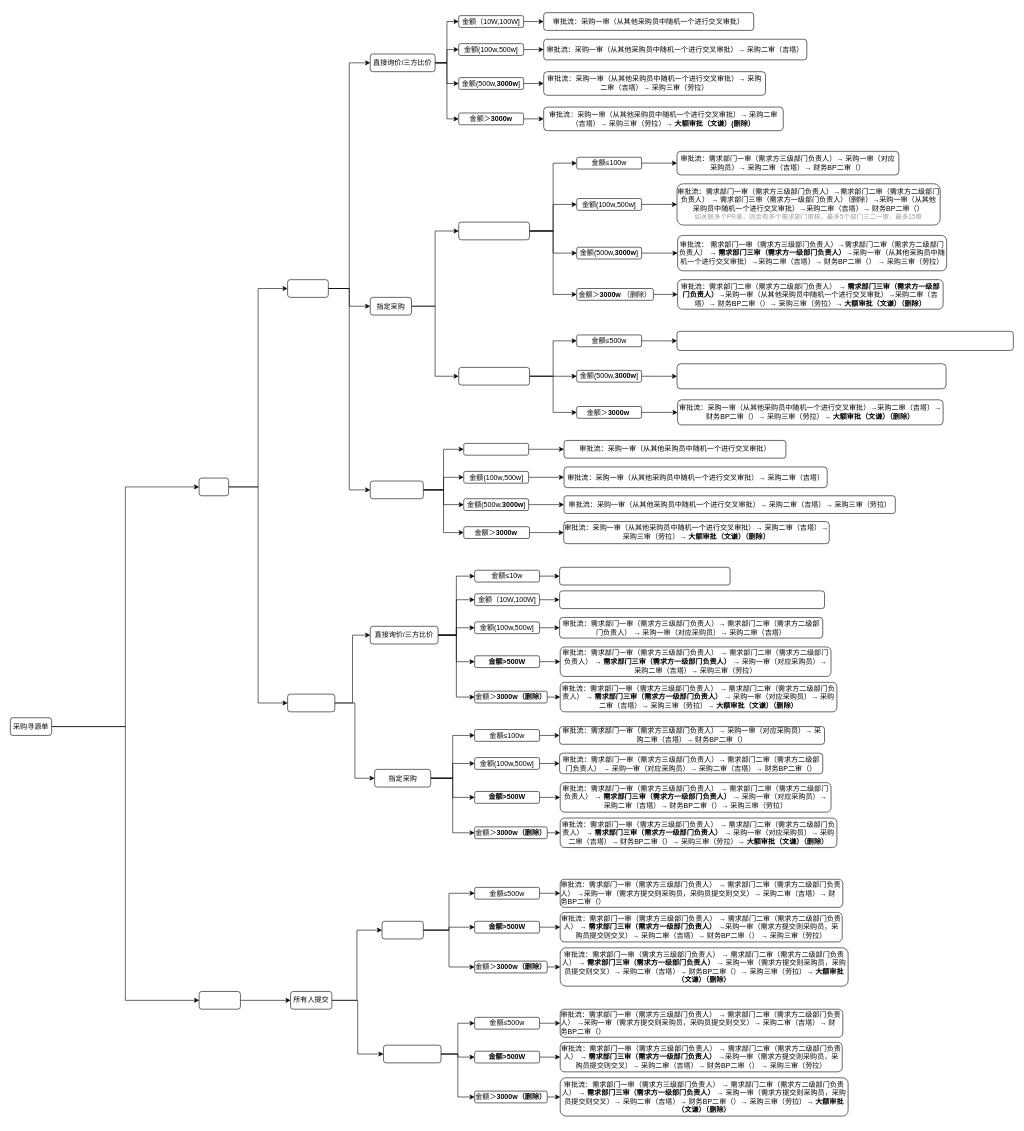
This 1024x1131 diagram has some shape labels left out. Here are the shapes that lost their labels. From the top down, the box of each, then its label:
(458, 222, 530, 240): 需求方指定采购 暂时不存在这个场景
(287, 279, 328, 297): 采购员提交
(676, 331, 1013, 350): 审批流：采购一审（从其他采购员中随机一个进行交叉审批）→采购二审（吉塔）→ 财务BP二审（）
(458, 367, 530, 385): 采购部指定采购
(676, 363, 946, 389): 审批流：采购一审（从其他采购员中随机一个进行交叉审批）→采购二审（吉塔）→ 财务BP二审（） → 采购三审（劳拉）
(463, 443, 529, 455): 金额(10w,100w]
(199, 477, 229, 496): 询比价
(370, 480, 423, 499): 直接结果审批
(559, 567, 730, 585): 审批流：需求部门一审（需求方三级部门负责人）
(559, 590, 825, 609): 审批流：需求部门一审（需求方三级部门负责人）→ 采购一审（对应采购员）
(287, 694, 335, 712): 需求方提交
(381, 921, 423, 939): 招投标定标
(199, 991, 240, 1009): 招投标
(383, 1045, 441, 1063): 直接结果审批 同上
